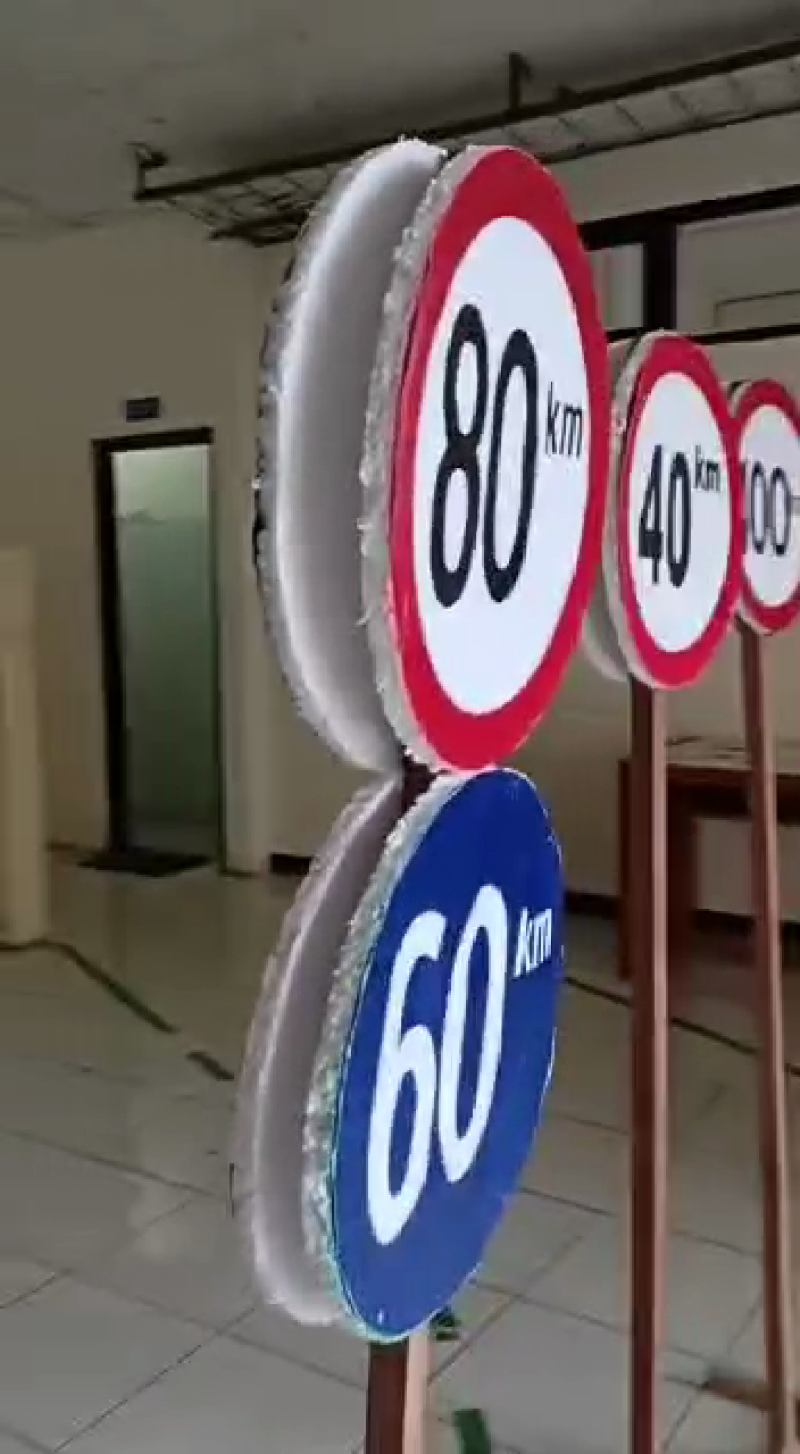batas maksimal 100kmperjam: (726, 351, 800, 641)
batas maksimal 40kmperjam: (585, 327, 743, 708)
batas maksimal 80kmperjam minimal 60kmperjam: (302, 138, 615, 1354)
